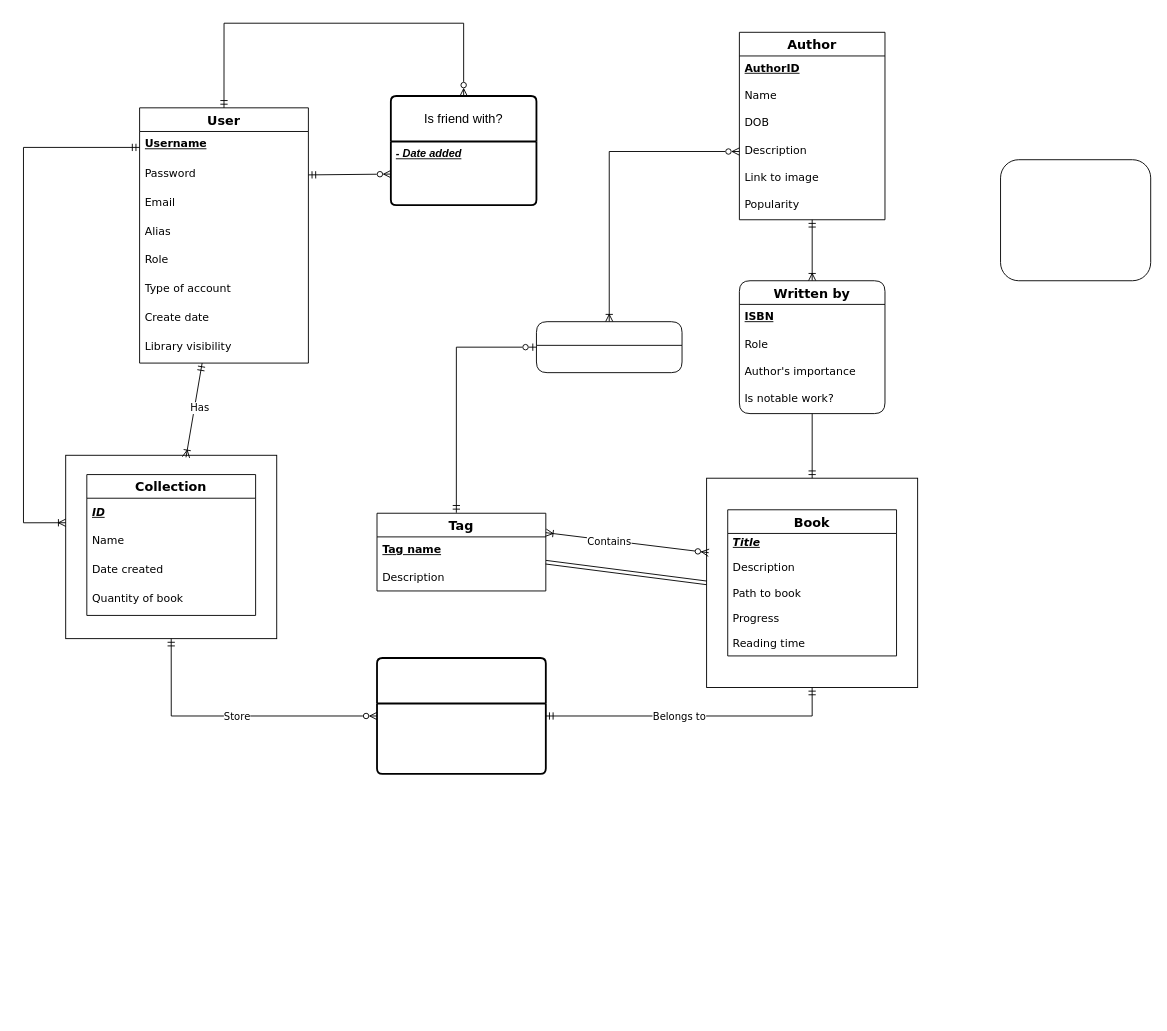
Some shapes in this 1167 by 1031 pixel diagram are drawn without their labels. Here are the shapes that lost their labels. From the top down, the centre of each, then its label:
point (1075, 220): Nếu notable work và importance cao vào role là main hoặc sub thì show
point (609, 347): Author's genres
point (461, 715): Collection's content
